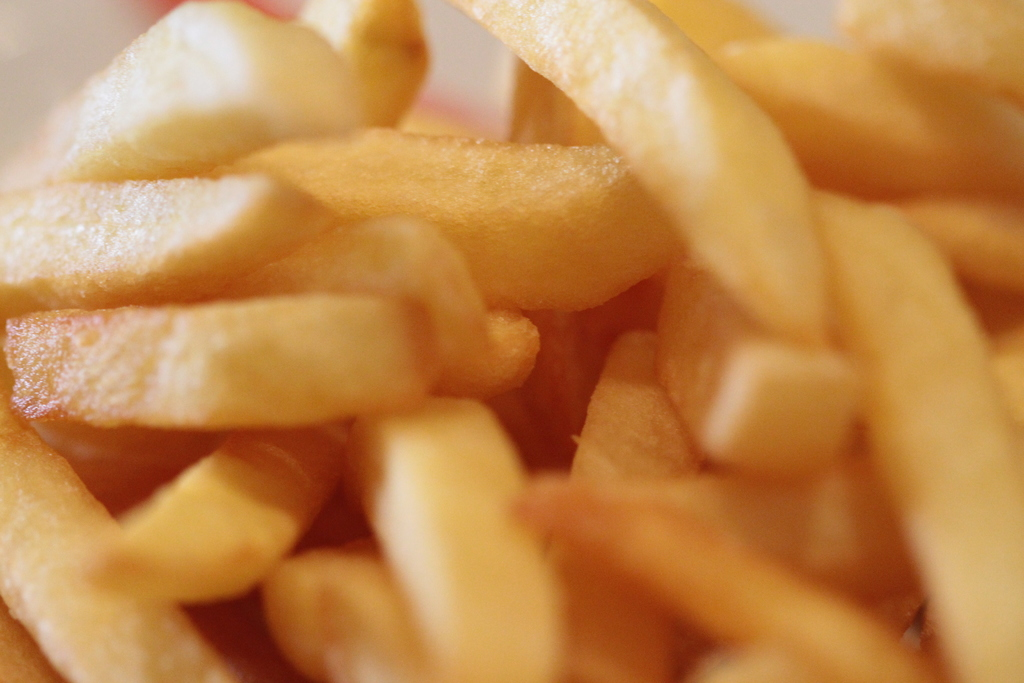French fries: (1, 4, 1013, 678)
